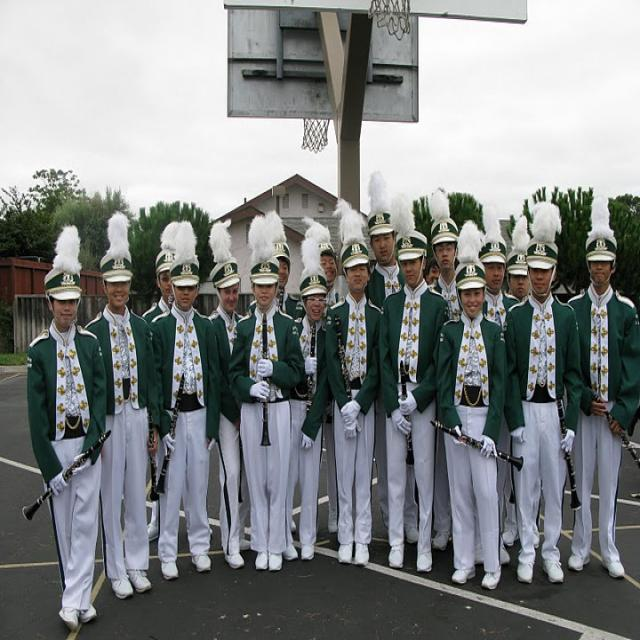clarinet: (17, 430, 120, 525), (429, 419, 530, 476), (152, 366, 189, 505), (587, 386, 640, 476), (550, 381, 583, 519), (258, 307, 277, 458), (331, 312, 356, 408), (398, 354, 416, 467), (304, 310, 318, 404), (276, 280, 286, 310)
